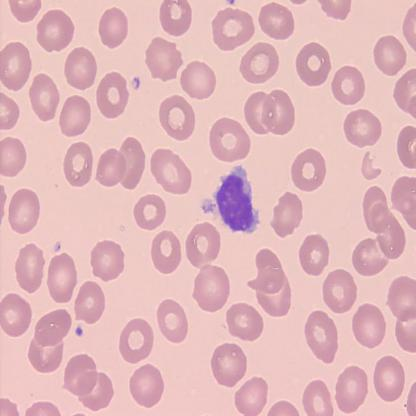Lymphocyte: (200, 164, 260, 234)
